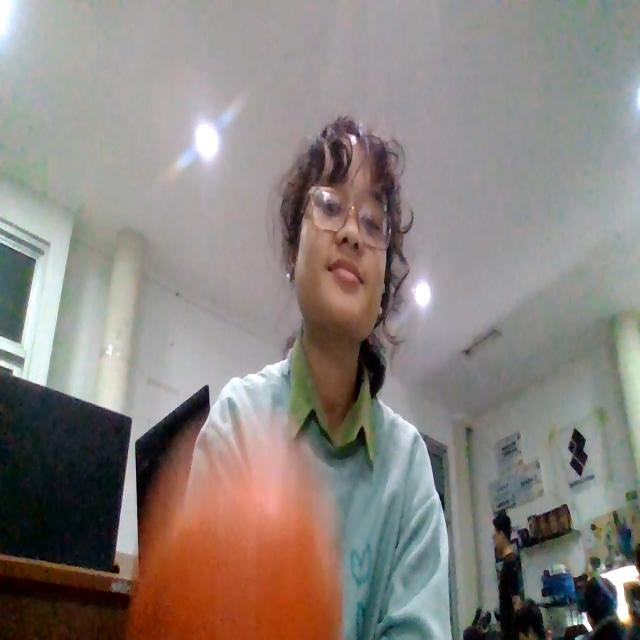ball: (139, 528, 336, 640)
